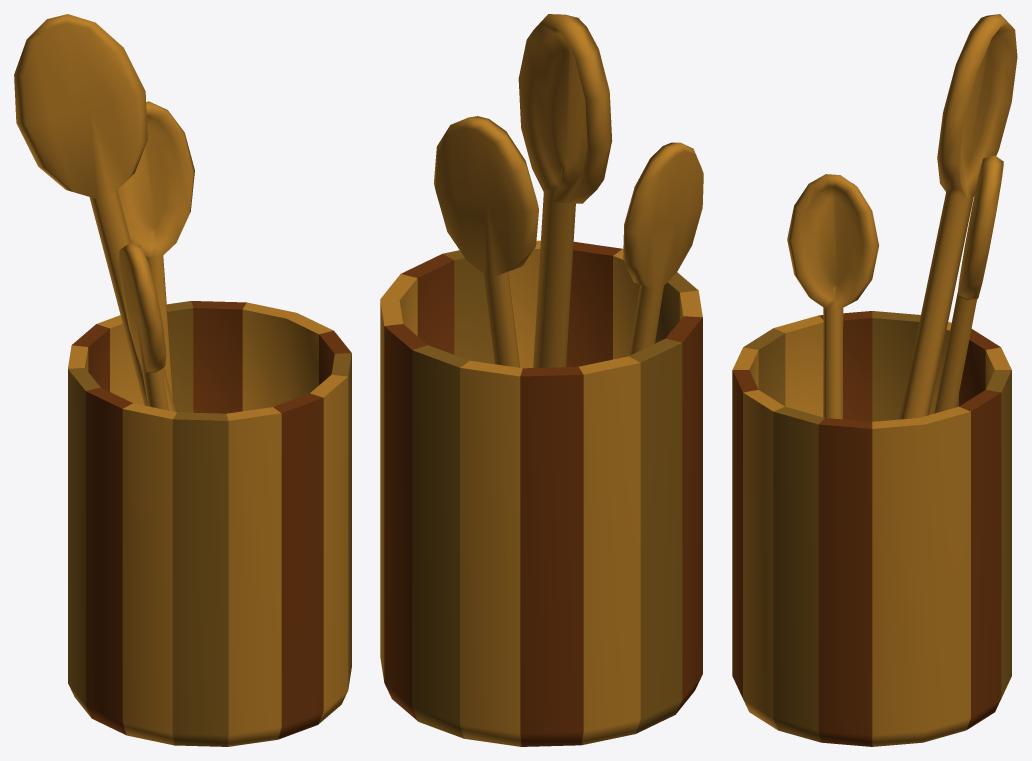
The model's file is KitchenCup_01.fbx.
3 renders of one model, left to right at view 1: azimuth 30°, elevation 25°; view 2: azimuth 150°, elevation 25°; view 3: azimuth 270°, elevation 25°, orthographic. The views are drawn at different scales.
Visible parts, largest first — view 1: KitchenSupplies, KitchenSuppliesSpoonL, KitchenSuppliesSpoonM, KitchenSuppliesSpoonSm; view 2: KitchenSupplies, KitchenSuppliesSpoonL, KitchenSuppliesSpoonM, KitchenSuppliesSpoonSm; view 3: KitchenSupplies, KitchenSuppliesSpoonL, KitchenSuppliesSpoonSm, KitchenSuppliesSpoonM.
Boxes of the visible parts, left/top/right/bottom form: KitchenSupplies: left=68, top=301, right=351, bottom=746; KitchenSuppliesSpoonL: left=14, top=14, right=175, bottom=411; KitchenSuppliesSpoonM: left=117, top=101, right=194, bottom=401; KitchenSuppliesSpoonSm: left=118, top=243, right=168, bottom=410; KitchenSupplies: left=380, top=240, right=702, bottom=746; KitchenSuppliesSpoonL: left=518, top=14, right=612, bottom=367; KitchenSuppliesSpoonM: left=434, top=116, right=538, bottom=367; KitchenSuppliesSpoonSm: left=623, top=142, right=703, bottom=355; KitchenSupplies: left=732, top=311, right=1011, bottom=746; KitchenSuppliesSpoonL: left=899, top=14, right=1017, bottom=419; KitchenSuppliesSpoonSm: left=787, top=174, right=879, bottom=419; KitchenSuppliesSpoonM: left=934, top=155, right=1003, bottom=413.
Bounding box in the file's own units: 13.18 × 33.21 × 13.39.
